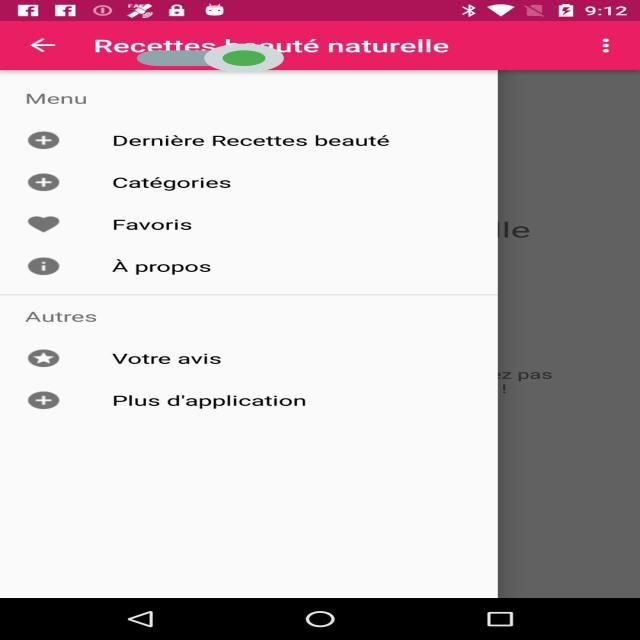social proof: (137, 31, 284, 85)
